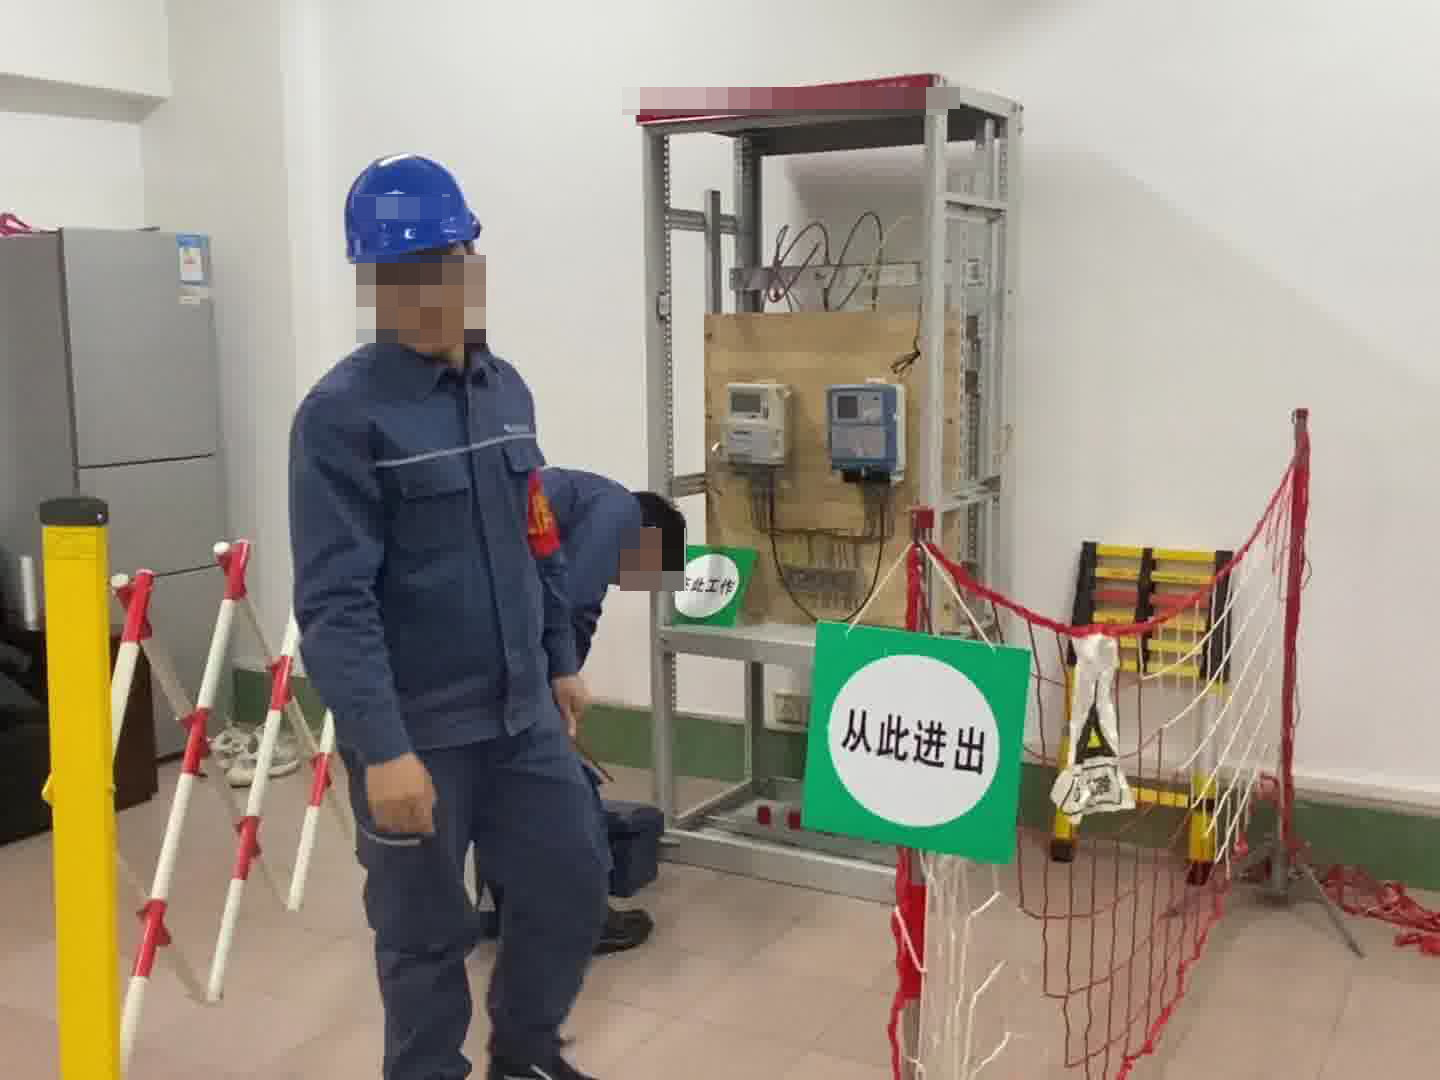badge: (516, 466, 566, 562)
downsuit: (350, 760, 609, 1080)
halt: (339, 152, 495, 353)
hand: (363, 756, 441, 846), (557, 670, 603, 728)
intosign: (797, 610, 1030, 863)
noear: (628, 517, 669, 554)
person: (280, 146, 689, 1080), (505, 467, 692, 960)
unhalt: (600, 480, 688, 595)
upsuit: (282, 339, 625, 745)
worksign: (660, 537, 757, 642)
